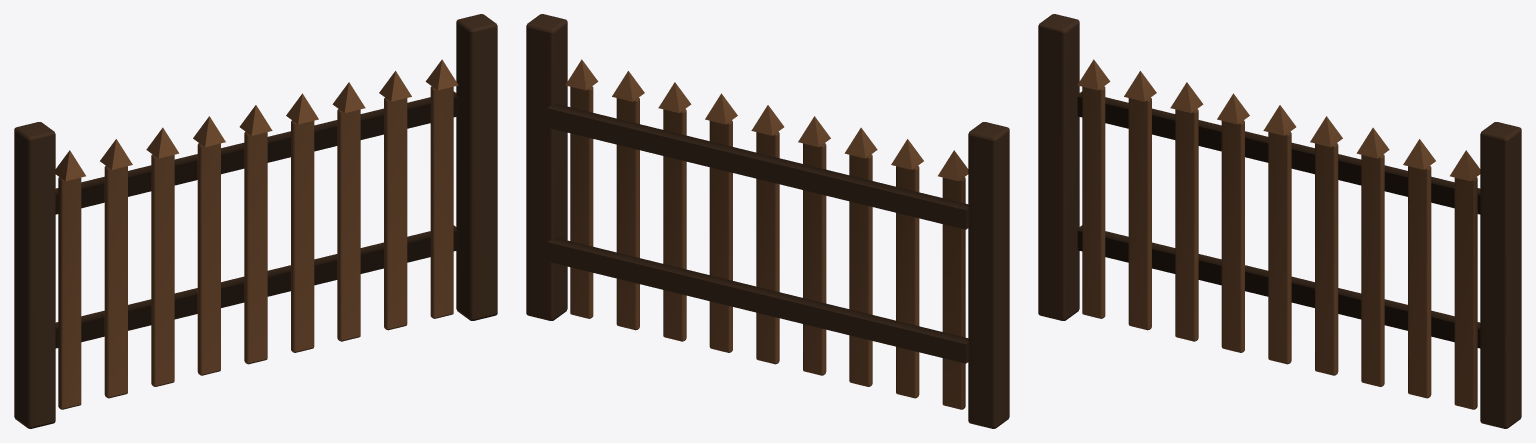
Rendered from fence.glb.
3 views of the same model, side by side, from view 1: azimuth 30°, elevation 25°; view 2: azimuth 150°, elevation 25°; view 3: azimuth 330°, elevation 25° (orthographic).
Parts seen in each view (by area): view 1: Post0, Post1, Picket4, Picket0, Picket3, Picket1, Picket2, Picket6, Picket7, Picket5, Picket8, Rail1 (+10 smaller); view 2: Post0, Post1, Rail1, Rail0, Picket0, Picket2, Picket3, Picket1, Picket4, Picket8, Picket6, Picket5 (+10 smaller); view 3: Post1, Post0, Picket4, Picket5, Picket8, Picket2, Picket6, Picket7, Picket1, Picket0, Picket3, Rail1 (+10 smaller).
Boxes of the visible parts, box(x1,y1,x2,y2) form: Post0: box(14, 122, 55, 428); Post1: box(456, 14, 497, 320); Picket4: box(244, 131, 267, 364); Picket0: box(58, 177, 81, 409); Picket3: box(197, 143, 220, 375); Picket1: box(104, 166, 127, 398); Picket2: box(151, 154, 174, 386); Picket6: box(337, 109, 360, 341); Picket7: box(384, 97, 407, 330); Picket5: box(291, 120, 314, 352); Picket8: box(430, 86, 453, 318); Rail1: box(55, 91, 458, 214); Post0: box(968, 122, 1009, 428); Post1: box(526, 14, 567, 320); Rail1: box(547, 104, 969, 229); Rail0: box(547, 237, 969, 363); Picket0: box(942, 177, 965, 409); Picket2: box(849, 154, 872, 386); Picket3: box(803, 143, 826, 375); Picket1: box(896, 166, 919, 398); Picket4: box(756, 131, 779, 364); Picket8: box(570, 86, 593, 318); Picket6: box(663, 109, 686, 341); Picket5: box(709, 120, 732, 352); Post1: box(1480, 122, 1521, 428); Post0: box(1038, 14, 1079, 320); Picket4: box(1268, 131, 1291, 364); Picket5: box(1315, 143, 1338, 375); Picket8: box(1454, 177, 1477, 409); Picket2: box(1175, 109, 1198, 341); Picket6: box(1361, 154, 1384, 386); Picket7: box(1408, 166, 1431, 398); Picket1: box(1128, 97, 1151, 330); Picket0: box(1082, 86, 1105, 318); Picket3: box(1221, 120, 1244, 352); Rail1: box(1077, 91, 1480, 214).
Size of the model in its own units: 2.02 by 1.2 by 0.145.
